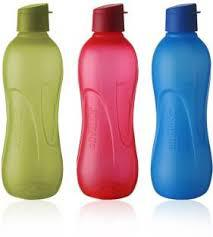Plastic: (77, 3, 140, 201)
